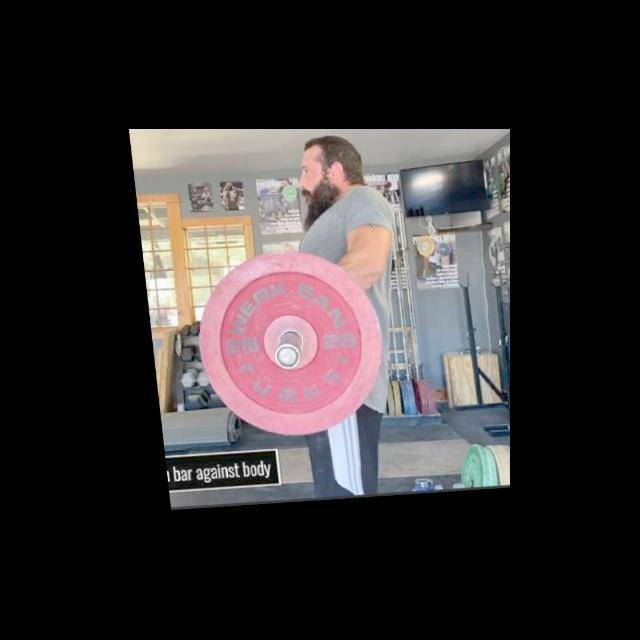barbell: (183, 243, 389, 448)
